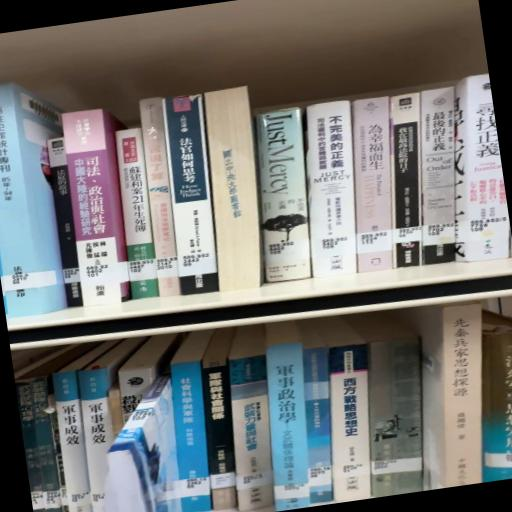backward: (193, 90, 279, 298)
book: (1, 74, 90, 318), (61, 105, 151, 308), (159, 95, 235, 303), (434, 76, 512, 266), (333, 100, 412, 279), (112, 125, 169, 304)
